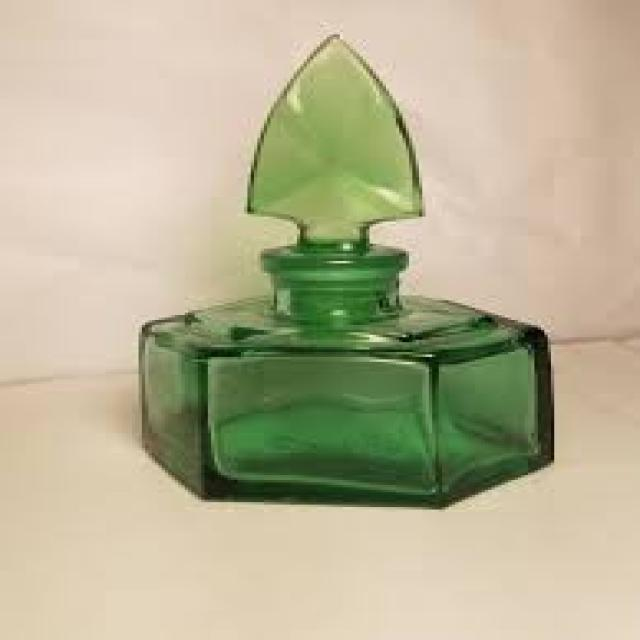glass: (135, 30, 554, 510)
